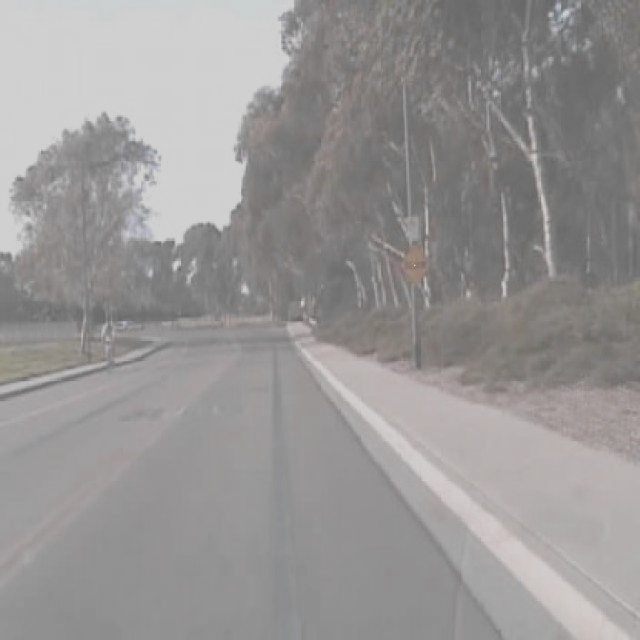slow: (400, 243, 430, 287)
